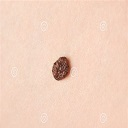Melanoma: (51, 55, 72, 82)
